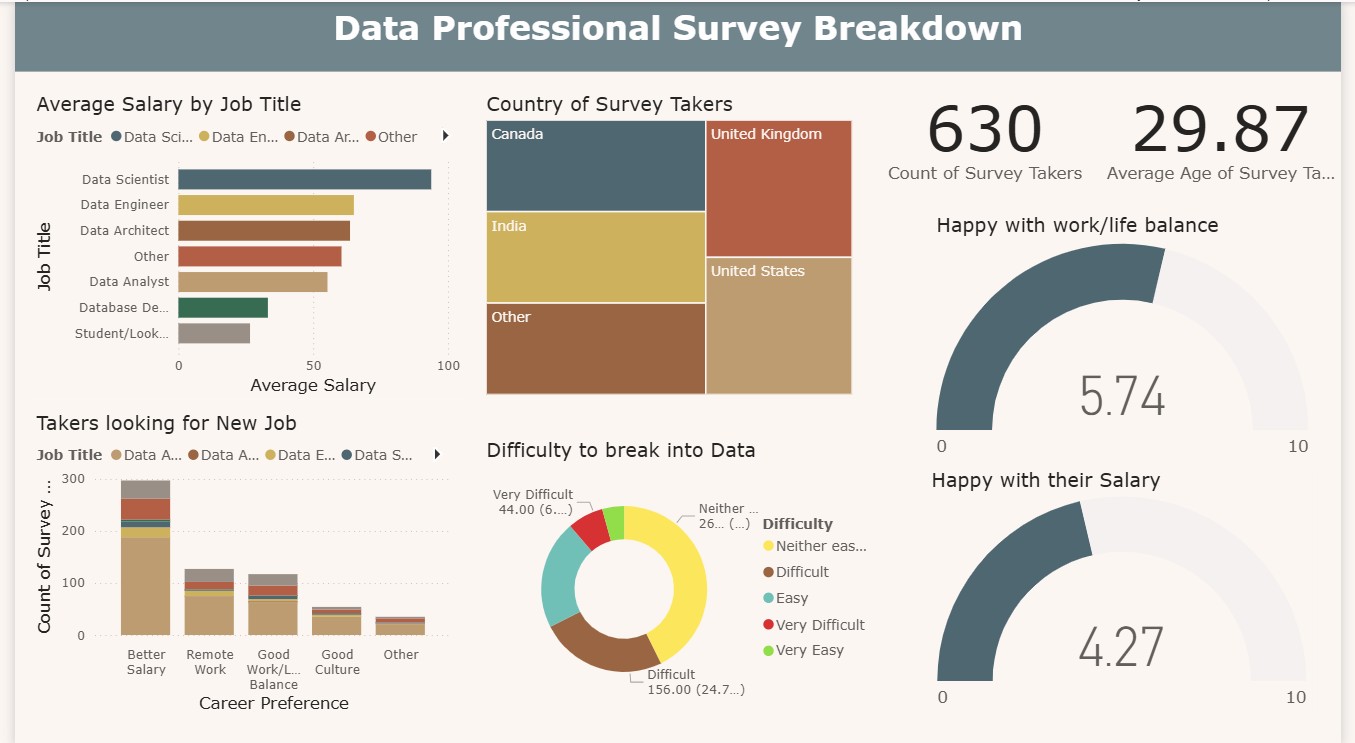

The page's visual inventory and layout, read from the dashboard file:
{"tool":"powerbi","page":{"name":"Page 1","canvas":[1280,720],"ordinal":0},"visuals":[{"type":"textbox","box":[0,0,1280.3,67.3],"z":0},{"type":"card","fields":{"Values":["CountNonNull(Data Professional Survey (4).Unique ID)"]},"box":[826.6,73.4,220.1,107.6],"z":1000},{"type":"card","fields":{"Values":["Avg(Data Professional Survey (4).Q10 - Current Age)"]},"box":[1046.7,73.4,233.6,107.6],"z":2000},{"type":"barChart","title":"Average Salary by Job Title","fields":{"Category":["Data Professional Survey (4).Q1 - Which Title Best Fits your Current Role?.1"],"Y":["Avg(Data Professional Survey (4).Average Salary)"],"Series":["Data Professional Survey (4).Q1 - Which Title Best Fits your Current Role?.1"]},"box":[15.9,86.8,419.4,297.1],"z":3000},{"type":"columnChart","title":"Takers looking for New Job","fields":{"Y":["CountNonNull(Data Professional Survey (4).Unique ID)"],"Series":["Data Professional Survey (4).Q1 - Which Title Best Fits your Current Role?.1"],"Category":["Data Professional Survey (4).Q8 - If you were to look for a new job today, what would be the most important t"]},"box":[15.7,394.5,411.4,295.6],"z":4000},{"type":"treemap","title":"Country of Survey Takers","fields":{"Group":["Data Professional Survey (4).Q11 - Which Country do you live in?.1"],"Values":["Count(Data Professional Survey (4).Q11 - Which Country do you live in?.1)"]},"box":[450,86.8,363.2,297.1],"z":5000},{"type":"gauge","title":"Happy with work/life balance","fields":{"Y":["Avg(Data Professional Survey (4).Q6 - How Happy are you in your Current Position with the following? (Work/Life Balance)"],"MinValue":["Min(Data Professional Survey (4).Q6 - How Happy are you in your Current Position with the following? (Work/Life Balance)"],"MaxValue":["Max(Data Professional Survey (4).Q6 - How Happy are you in your Current Position with the following? (Work/Life Balance)"]},"box":[884.1,204.2,369.3,245.8],"z":6000},{"type":"gauge","title":"Happy with their Salary","fields":{"Y":["Avg(Data Professional Survey (4).Q6 - How Happy are you in your Current Position with the following? (Salary))"],"MinValue":["Min(Data Professional Survey (4).Q6 - How Happy are you in your Current Position with the following? (Salary))"],"MaxValue":["Max(Data Professional Survey (4).Q6 - How Happy are you in your Current Position with the following? (Upward Mobility))"]},"box":[879.2,450,377.9,239.7],"z":7000},{"type":"donutChart","title":"Difficulty to break into Data","fields":{"Category":["Data Professional Survey (4).Q7 - How difficult was it for you to break into Data?"],"Y":["CountNonNull(Data Professional Survey (4).Q7 - How difficult was it for you to break into Data?)"]},"box":[450,420.7,391.3,269],"z":8000}]}

Visuals, with their boxes in screenshot pixels (x1, y1, x2, y2), scaled from the page's 1280x720 canvas onto the 1355x743 screenshot:
textbox: 0, 0, 1354, 69
card - CountNonNull(Data Professional Survey (4).Unique ID): 875, 76, 1108, 187
card - Avg(Data Professional Survey (4).Q10 - Current Age): 1108, 76, 1354, 187
"Average Salary by Job Title" barChart: 17, 90, 461, 396
"Takers looking for New Job" columnChart: 17, 407, 452, 712
"Country of Survey Takers" treemap: 476, 90, 861, 396
"Happy with work/life balance" gauge: 936, 211, 1327, 464
"Happy with their Salary" gauge: 931, 464, 1331, 712
"Difficulty to break into Data" donutChart: 476, 434, 891, 712
